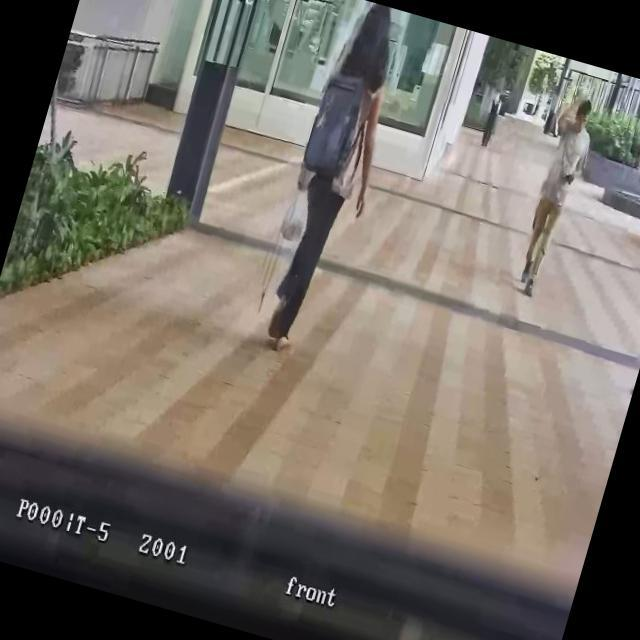person: (248, 0, 419, 361), (509, 91, 603, 297), (478, 88, 505, 149)
